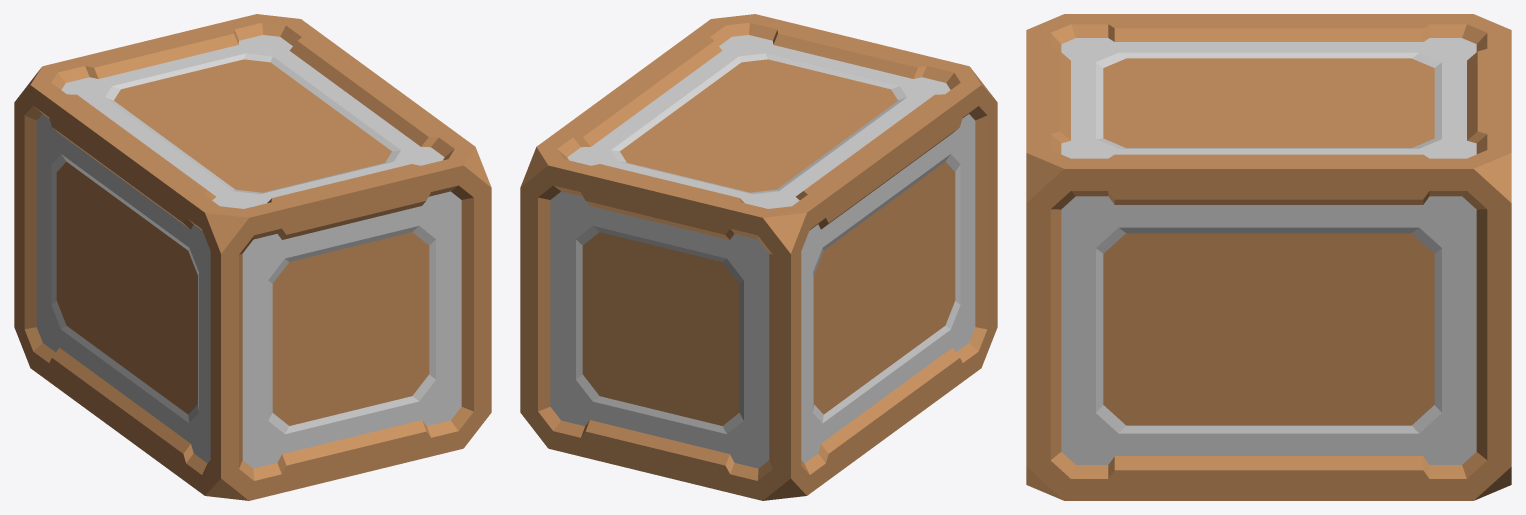
The model's file is crate orange med.fbx.
The picture shows the model from 3 angles, left to right: view 1: azimuth 30°, elevation 25°; view 2: azimuth 150°, elevation 25°; view 3: azimuth 270°, elevation 25°; orthographic projection. The views are drawn at different scales.
Visible parts, largest first — view 1: Crate Medium; view 2: Crate Medium; view 3: Crate Medium.
Part boxes in pixels (left/top/right/bottom): Crate Medium: left=14, top=14, right=491, bottom=500; Crate Medium: left=520, top=14, right=997, bottom=500; Crate Medium: left=1026, top=14, right=1511, bottom=500.
Bounding box in the file's own units: 75.5 × 75.5 × 100.
